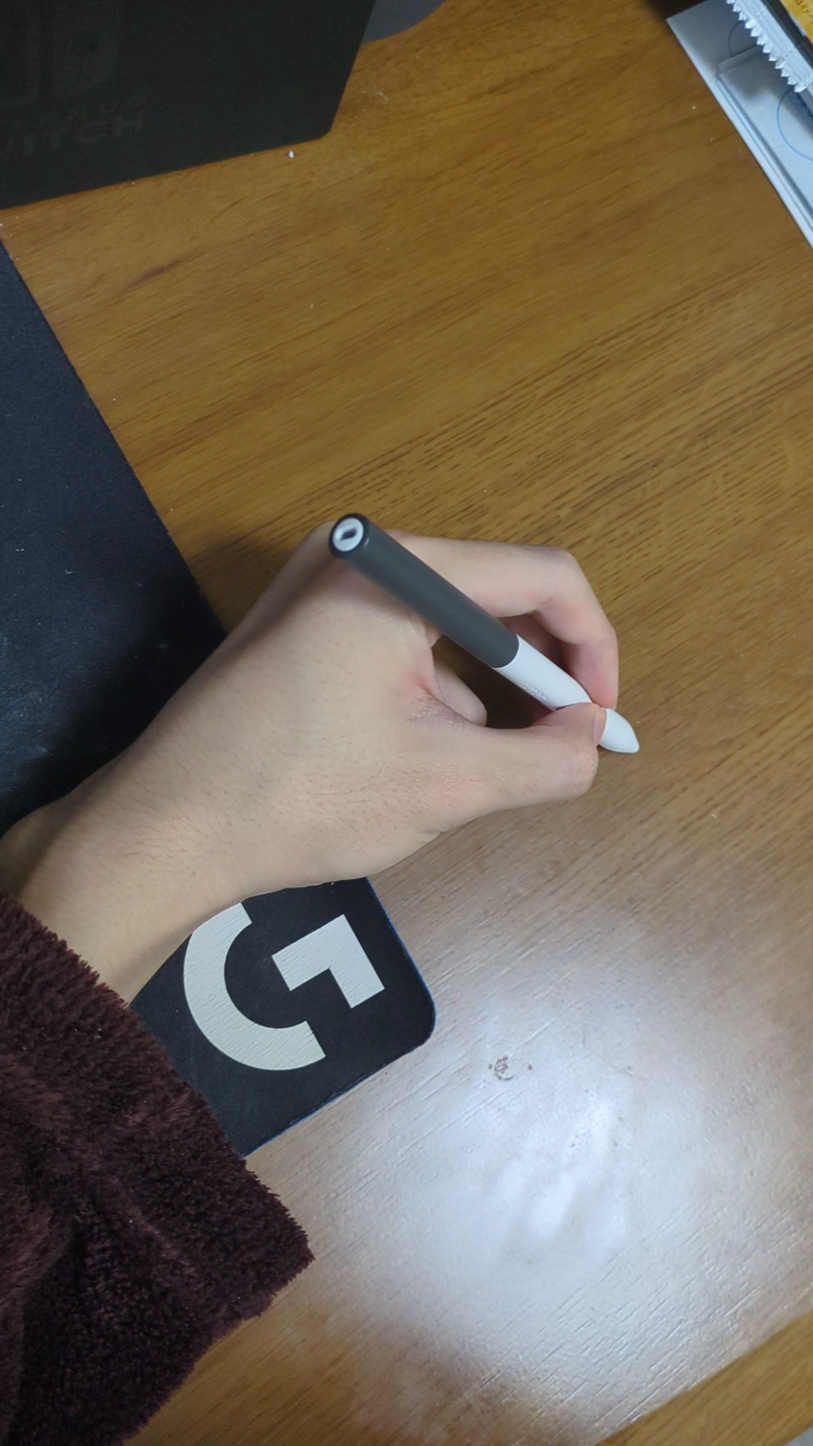pen: (325, 511, 651, 761)
tip: (621, 737, 655, 763)
